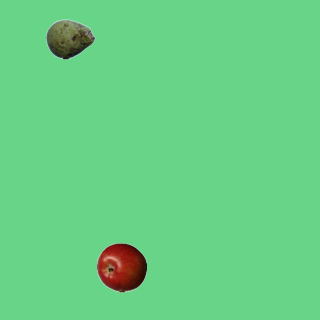Apple Braeburn: (96, 242, 146, 292)
Pear Stone: (45, 14, 95, 64)
